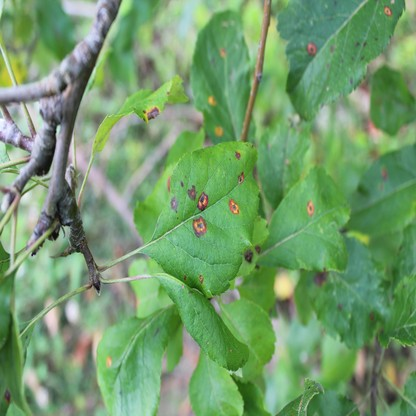rust: (143, 104, 161, 119), (193, 218, 207, 236), (198, 191, 208, 209), (187, 186, 197, 200), (307, 41, 316, 55), (229, 200, 238, 214), (207, 94, 217, 106), (307, 199, 314, 216), (106, 351, 113, 367), (171, 196, 178, 211), (238, 172, 245, 184), (215, 126, 224, 135), (198, 272, 204, 284), (380, 166, 386, 177), (384, 7, 391, 16), (220, 46, 225, 56)
